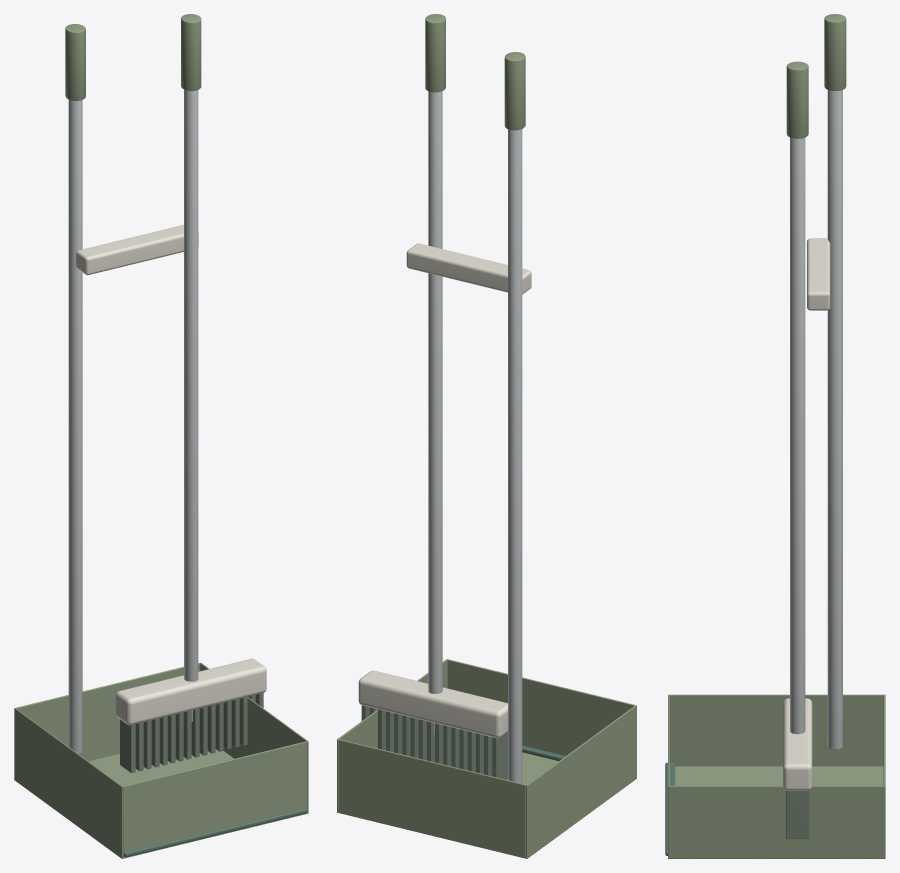
The model's file is upright-sweep.glb.
3 renders of one model, left to right at view 1: azimuth 30°, elevation 25°; view 2: azimuth 150°, elevation 25°; view 3: azimuth 270°, elevation 25°, orthographic.
Parts seen in each view (by area): view 1: Standing dustpan front, Pan shaft, Broom shaft, Standing dustpan left, Broom block, Standing dustpan back, Storage clip, Standing dustpan floor, Standing dustpan right, Handle grip, Handle grip.001, Replaceable sealing lip (+1 smaller); view 2: Standing dustpan back, Pan shaft, Broom shaft, Standing dustpan left, Standing dustpan front, Broom block, Storage clip, Handle grip, Handle grip.001, Standing dustpan right, Standing dustpan floor, Broom bristle tuft; view 3: Standing dustpan right, Standing dustpan left, Pan shaft, Broom shaft, Standing dustpan floor, Broom block, Handle grip.001, Handle grip, Storage clip, Broom bristle tuft.016, Replaceable sealing lip.
Boxes of the visible parts, <box> form: Standing dustpan front: <box>123,741,307,857</box>; Pan shaft: <box>68,100,82,753</box>; Broom shaft: <box>184,89,198,721</box>; Standing dustpan left: <box>14,708,123,858</box>; Broom block: <box>115,658,266,725</box>; Standing dustpan back: <box>16,663,200,761</box>; Storage clip: <box>76,224,198,275</box>; Standing dustpan floor: <box>14,749,308,858</box>; Standing dustpan right: <box>200,662,308,812</box>; Handle grip: <box>65,24,85,100</box>; Handle grip.001: <box>181,14,201,90</box>; Replaceable sealing lip: <box>124,808,307,857</box>; Standing dustpan back: <box>338,739,525,858</box>; Pan shaft: <box>508,129,522,783</box>; Broom shaft: <box>428,91,442,734</box>; Standing dustpan left: <box>526,705,636,857</box>; Standing dustpan front: <box>447,659,635,755</box>; Broom block: <box>358,670,507,738</box>; Storage clip: <box>406,243,531,294</box>; Handle grip: <box>504,52,525,130</box>; Handle grip.001: <box>425,14,445,92</box>; Standing dustpan right: <box>337,659,447,811</box>; Standing dustpan floor: <box>337,752,636,858</box>; Broom bristle tuft: <box>492,732,507,779</box>; Standing dustpan right: <box>668,785,885,858</box>; Standing dustpan left: <box>668,694,885,766</box>; Pan shaft: <box>827,90,842,749</box>; Broom shaft: <box>790,137,805,734</box>; Standing dustpan floor: <box>668,766,885,858</box>; Broom block: <box>783,698,812,790</box>; Handle grip.001: <box>786,61,808,138</box>; Handle grip: <box>824,14,846,90</box>; Storage clip: <box>807,238,830,310</box>; Broom bristle tuft.016: <box>786,790,809,839</box>; Replaceable sealing lip: <box>665,762,675,855</box>.
Size of the model in its own units: 0.28 by 1 by 0.26.
